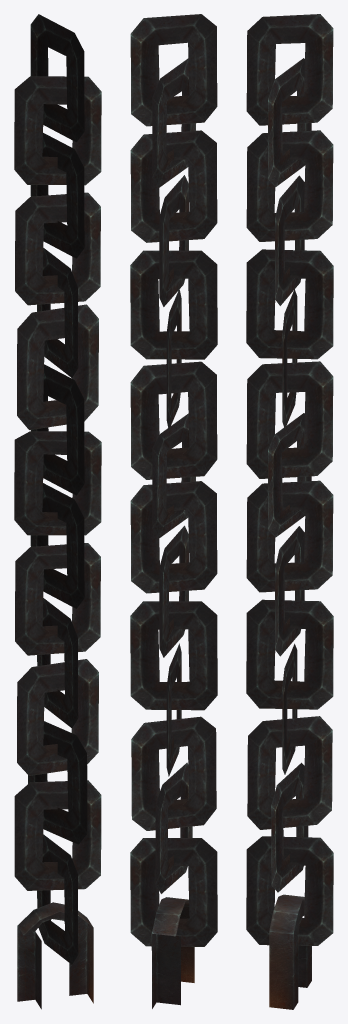
File: building_underground_liantiao01.FBX
3 views of the same model, side by side, from view 1: azimuth 90°, elevation 25°; view 2: azimuth 150°, elevation 25°; view 3: azimuth 330°, elevation 25° (orthographic).
Parts seen in each view (by area): view 1: building_underground_liantiao01; view 2: building_underground_liantiao01; view 3: building_underground_liantiao01.
Part boxes in pixels (x1,y1,x2,y2): building_underground_liantiao01: [14, 14, 101, 1009]; building_underground_liantiao01: [130, 14, 217, 1008]; building_underground_liantiao01: [246, 14, 333, 1009].
Bounding box in the file's own units: 2.08 × 29.21 × 2.36.
